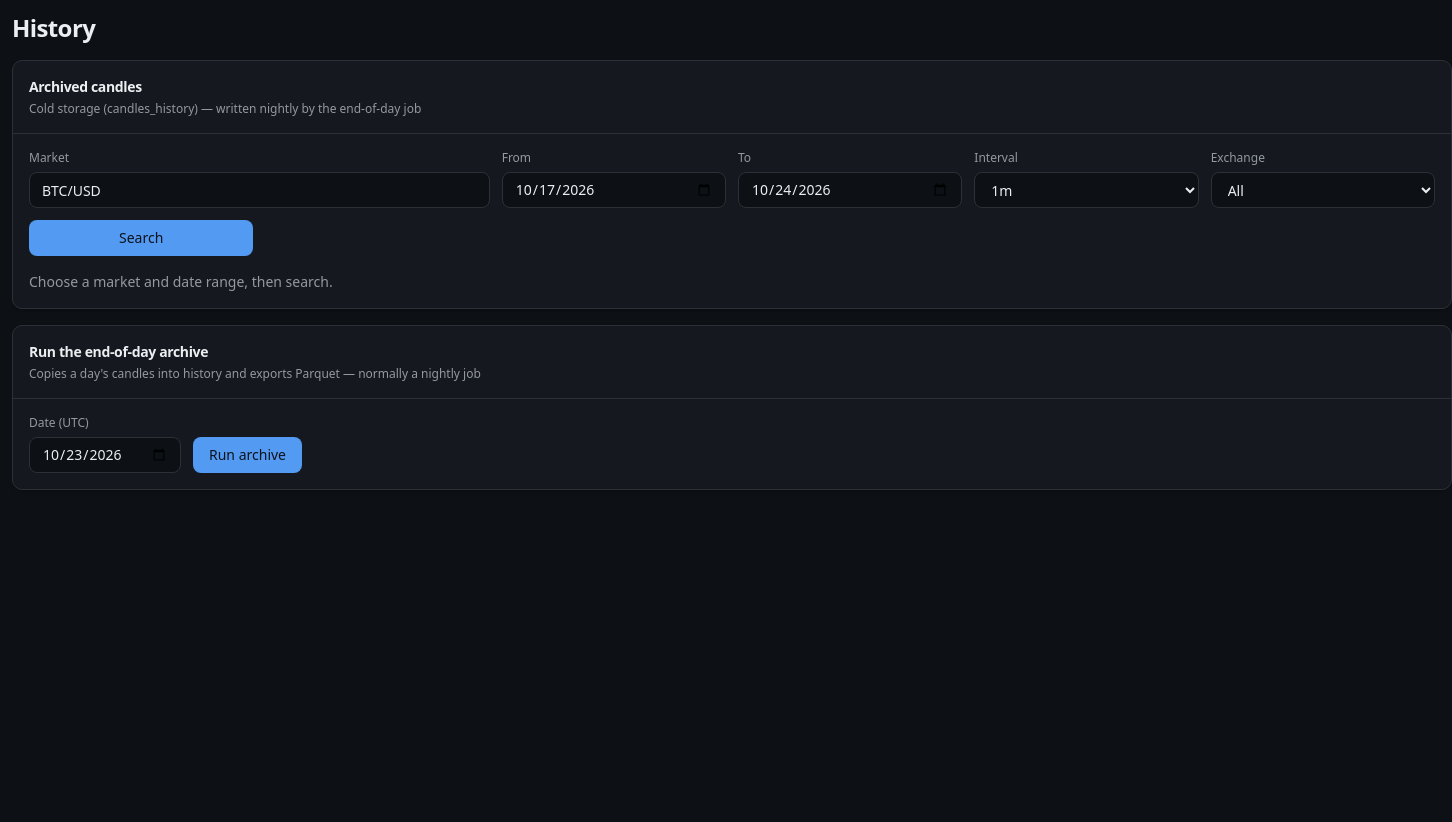
Test: archive trigger › starts the job for a signed-in user and reports the accepted message
Click the button "Run archive" at [248, 455], box [193,437,302,473]
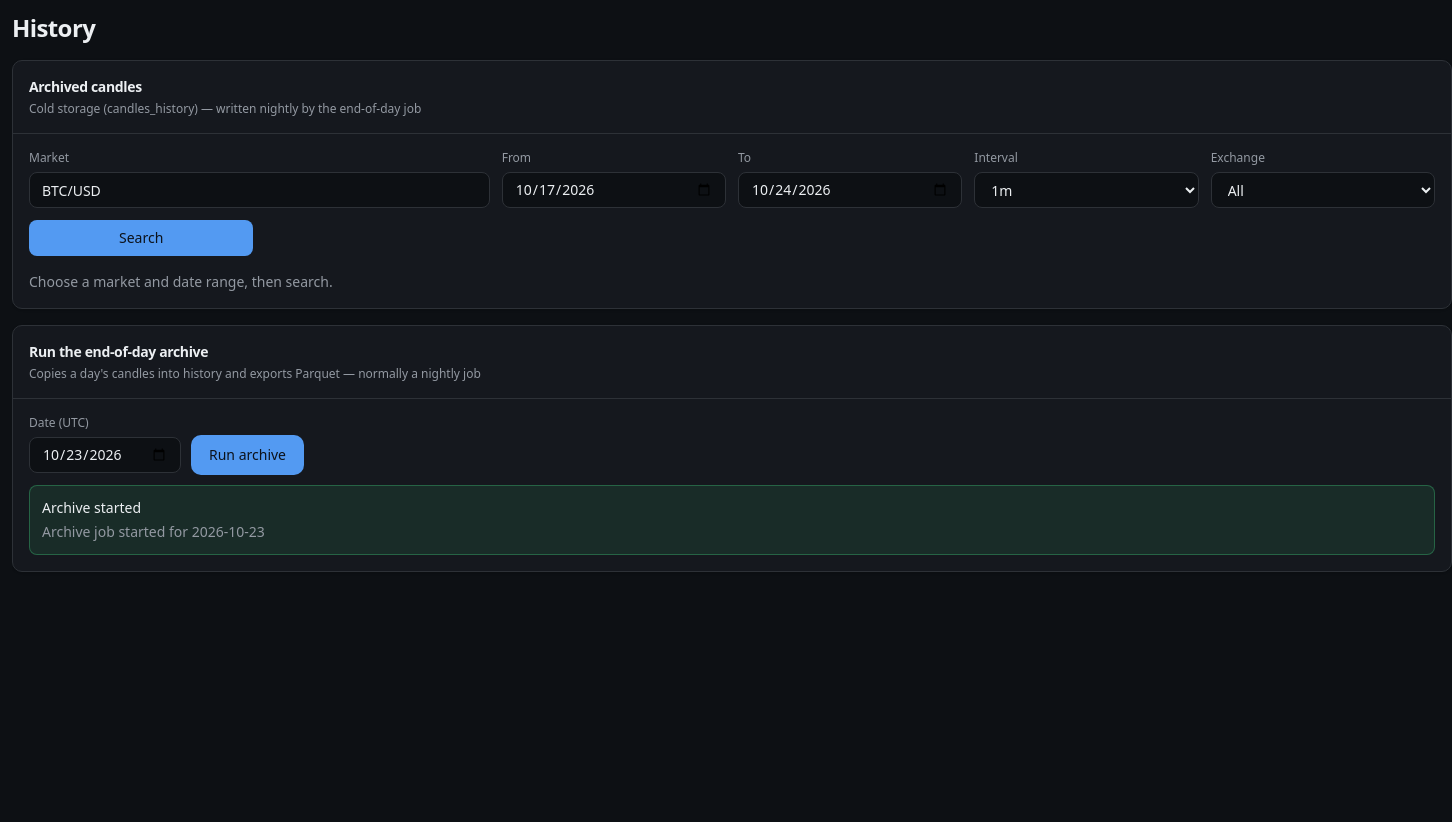
Expected: the text "Archive started" is shown, [42,498,141,517]
Expected: the text "Archive job started for 2026-10-23" is shown, [42,522,265,541]
